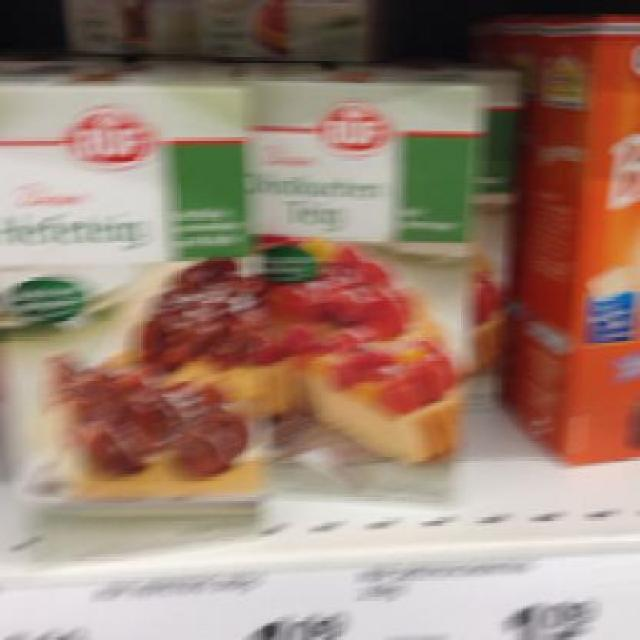Cake: (0, 68, 260, 526), (237, 77, 480, 492)
